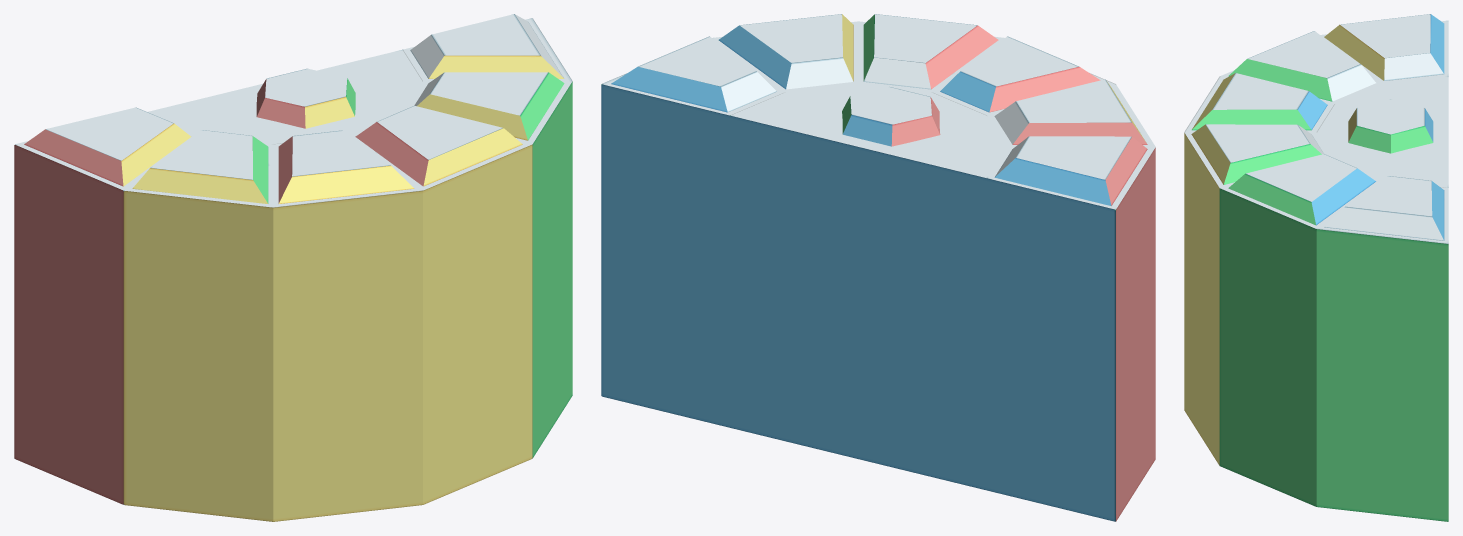
Rendered from DHD.fbx.
3 views of the same model, side by side, from view 1: azimuth 30°, elevation 25°; view 2: azimuth 150°, elevation 25°; view 3: azimuth 270°, elevation 25° (orthographic). The views are drawn at different scales.
Visible parts, largest first — view 1: cylinder, cylinder_selection_3, cylinder_selection, cylinder_selection_1, cylinder_selection_2, cylinder_selection_4, cylinder_selection_5, cylinder_1; view 2: cylinder, cylinder_selection, cylinder_selection_3, cylinder_selection_4, cylinder_selection_5, cylinder_selection_2, cylinder_selection_1, cylinder_1; view 3: cylinder, cylinder_selection_4, cylinder_selection, cylinder_selection_1, cylinder_selection_5, cylinder_selection_3, cylinder_selection_2, cylinder_1.
Boxes of the visible parts, <box> form: cylinder: <box>14,18,572,521</box>; cylinder_selection_3: <box>355,105,522,186</box>; cylinder_selection: <box>24,107,191,186</box>; cylinder_selection_1: <box>132,130,268,203</box>; cylinder_selection_2: <box>278,130,414,203</box>; cylinder_selection_4: <box>414,72,564,140</box>; cylinder_selection_5: <box>410,14,564,78</box>; cylinder_1: <box>256,68,355,128</box>; cylinder: <box>601,21,1155,521</box>; cylinder_selection: <box>994,136,1147,205</box>; cylinder_selection_3: <box>863,14,998,89</box>; cylinder_selection_4: <box>719,14,853,89</box>; cylinder_selection_5: <box>611,36,776,112</box>; cylinder_selection_2: <box>940,36,1100,112</box>; cylinder_selection_1: <box>994,79,1147,144</box>; cylinder_1: <box>842,87,940,146</box>; cylinder: <box>1184,20,1448,521</box>; cylinder_selection_4: <box>1228,154,1375,225</box>; cylinder_selection: <box>1324,14,1444,80</box>; cylinder_selection_1: <box>1228,31,1375,101</box>; cylinder_selection_5: <box>1324,176,1444,240</box>; cylinder_selection_3: <box>1191,124,1323,184</box>; cylinder_selection_2: <box>1192,73,1327,130</box>; cylinder_1: <box>1348,99,1433,153</box>.
Bounding box in the file's own units: 97.06 × 59.38 × 48.53.
2 materials, 2 textured.
